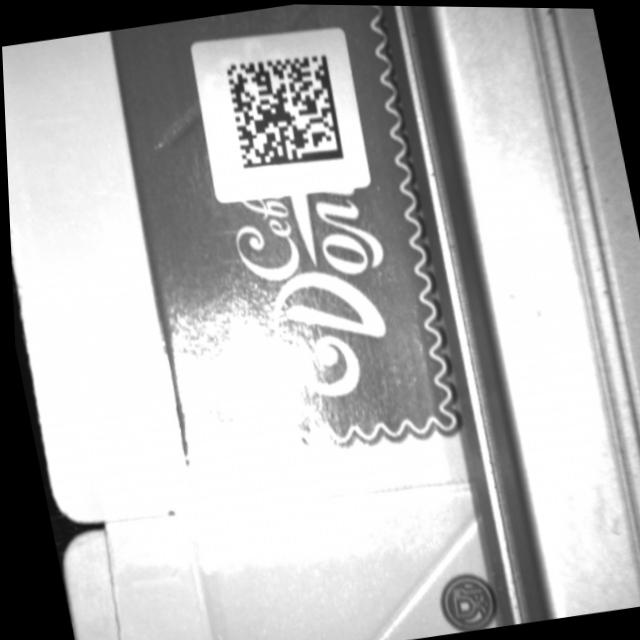datamatrix: (223, 48, 347, 175)
